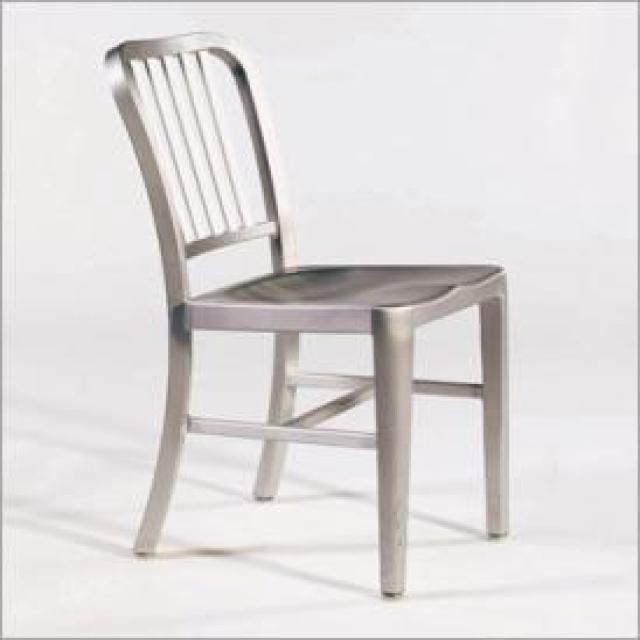chair: (104, 29, 508, 608)
